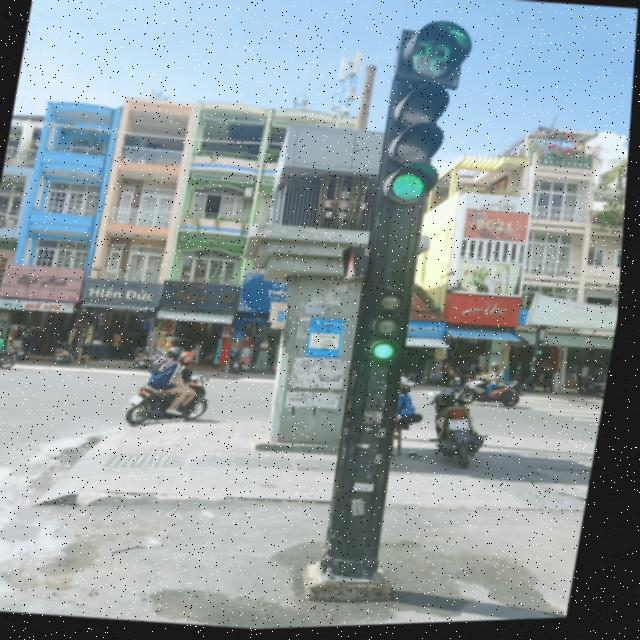Green: (373, 79, 457, 215), (353, 274, 424, 371)
